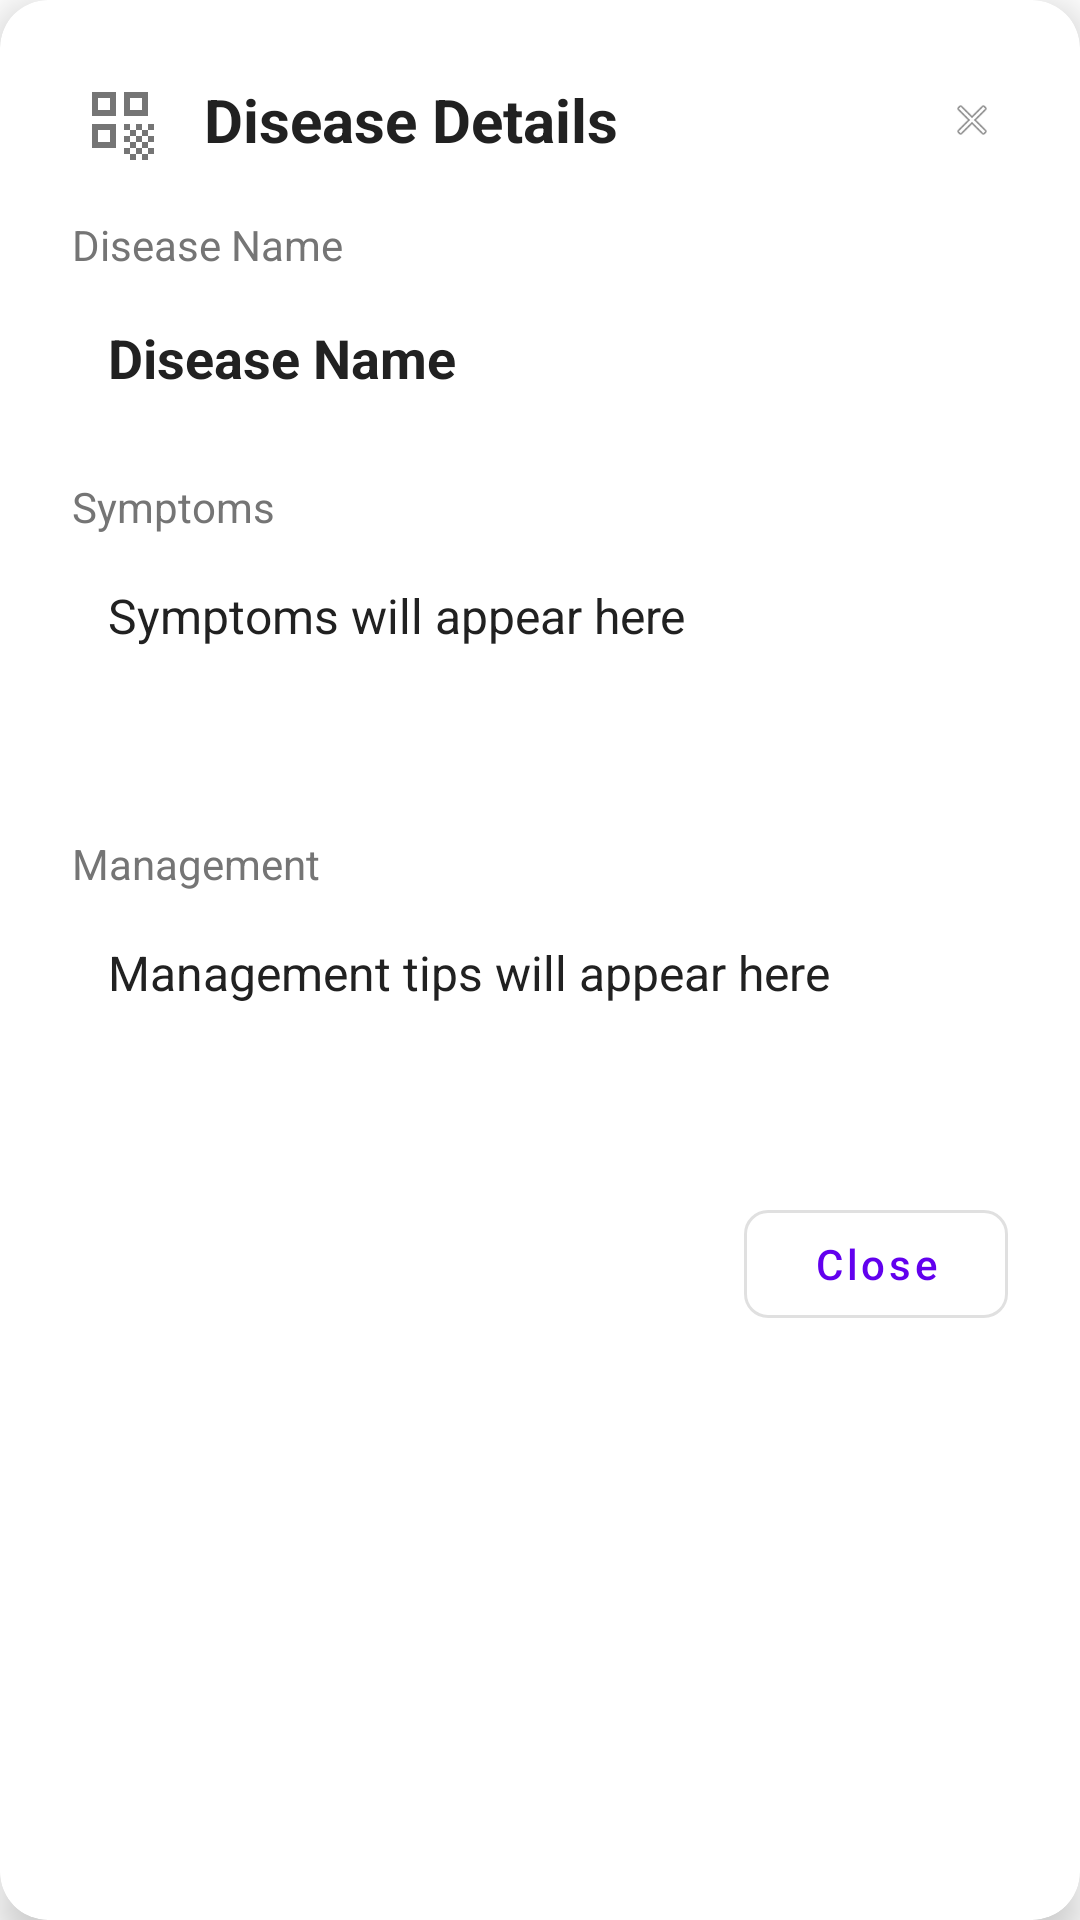

Point at icon controls on the screen. Image size 1080 x 1920, points as (x,y).
Close button: (972,120)
detect: (123,126)
